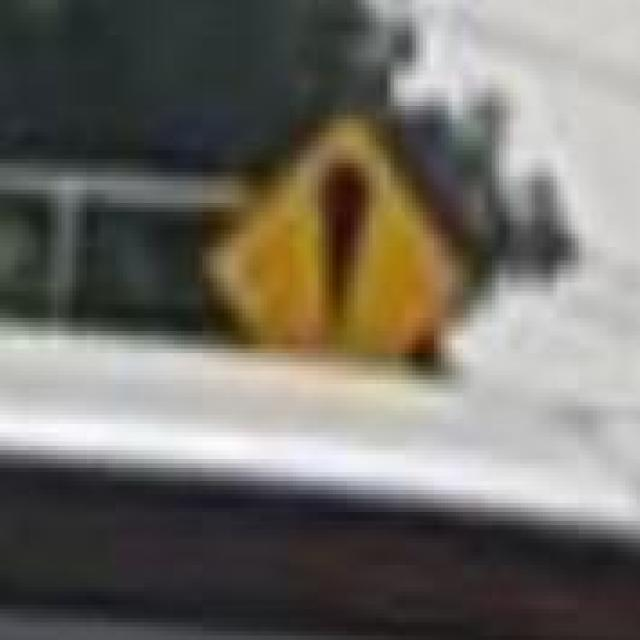traffic sign: (210, 115, 474, 349)
